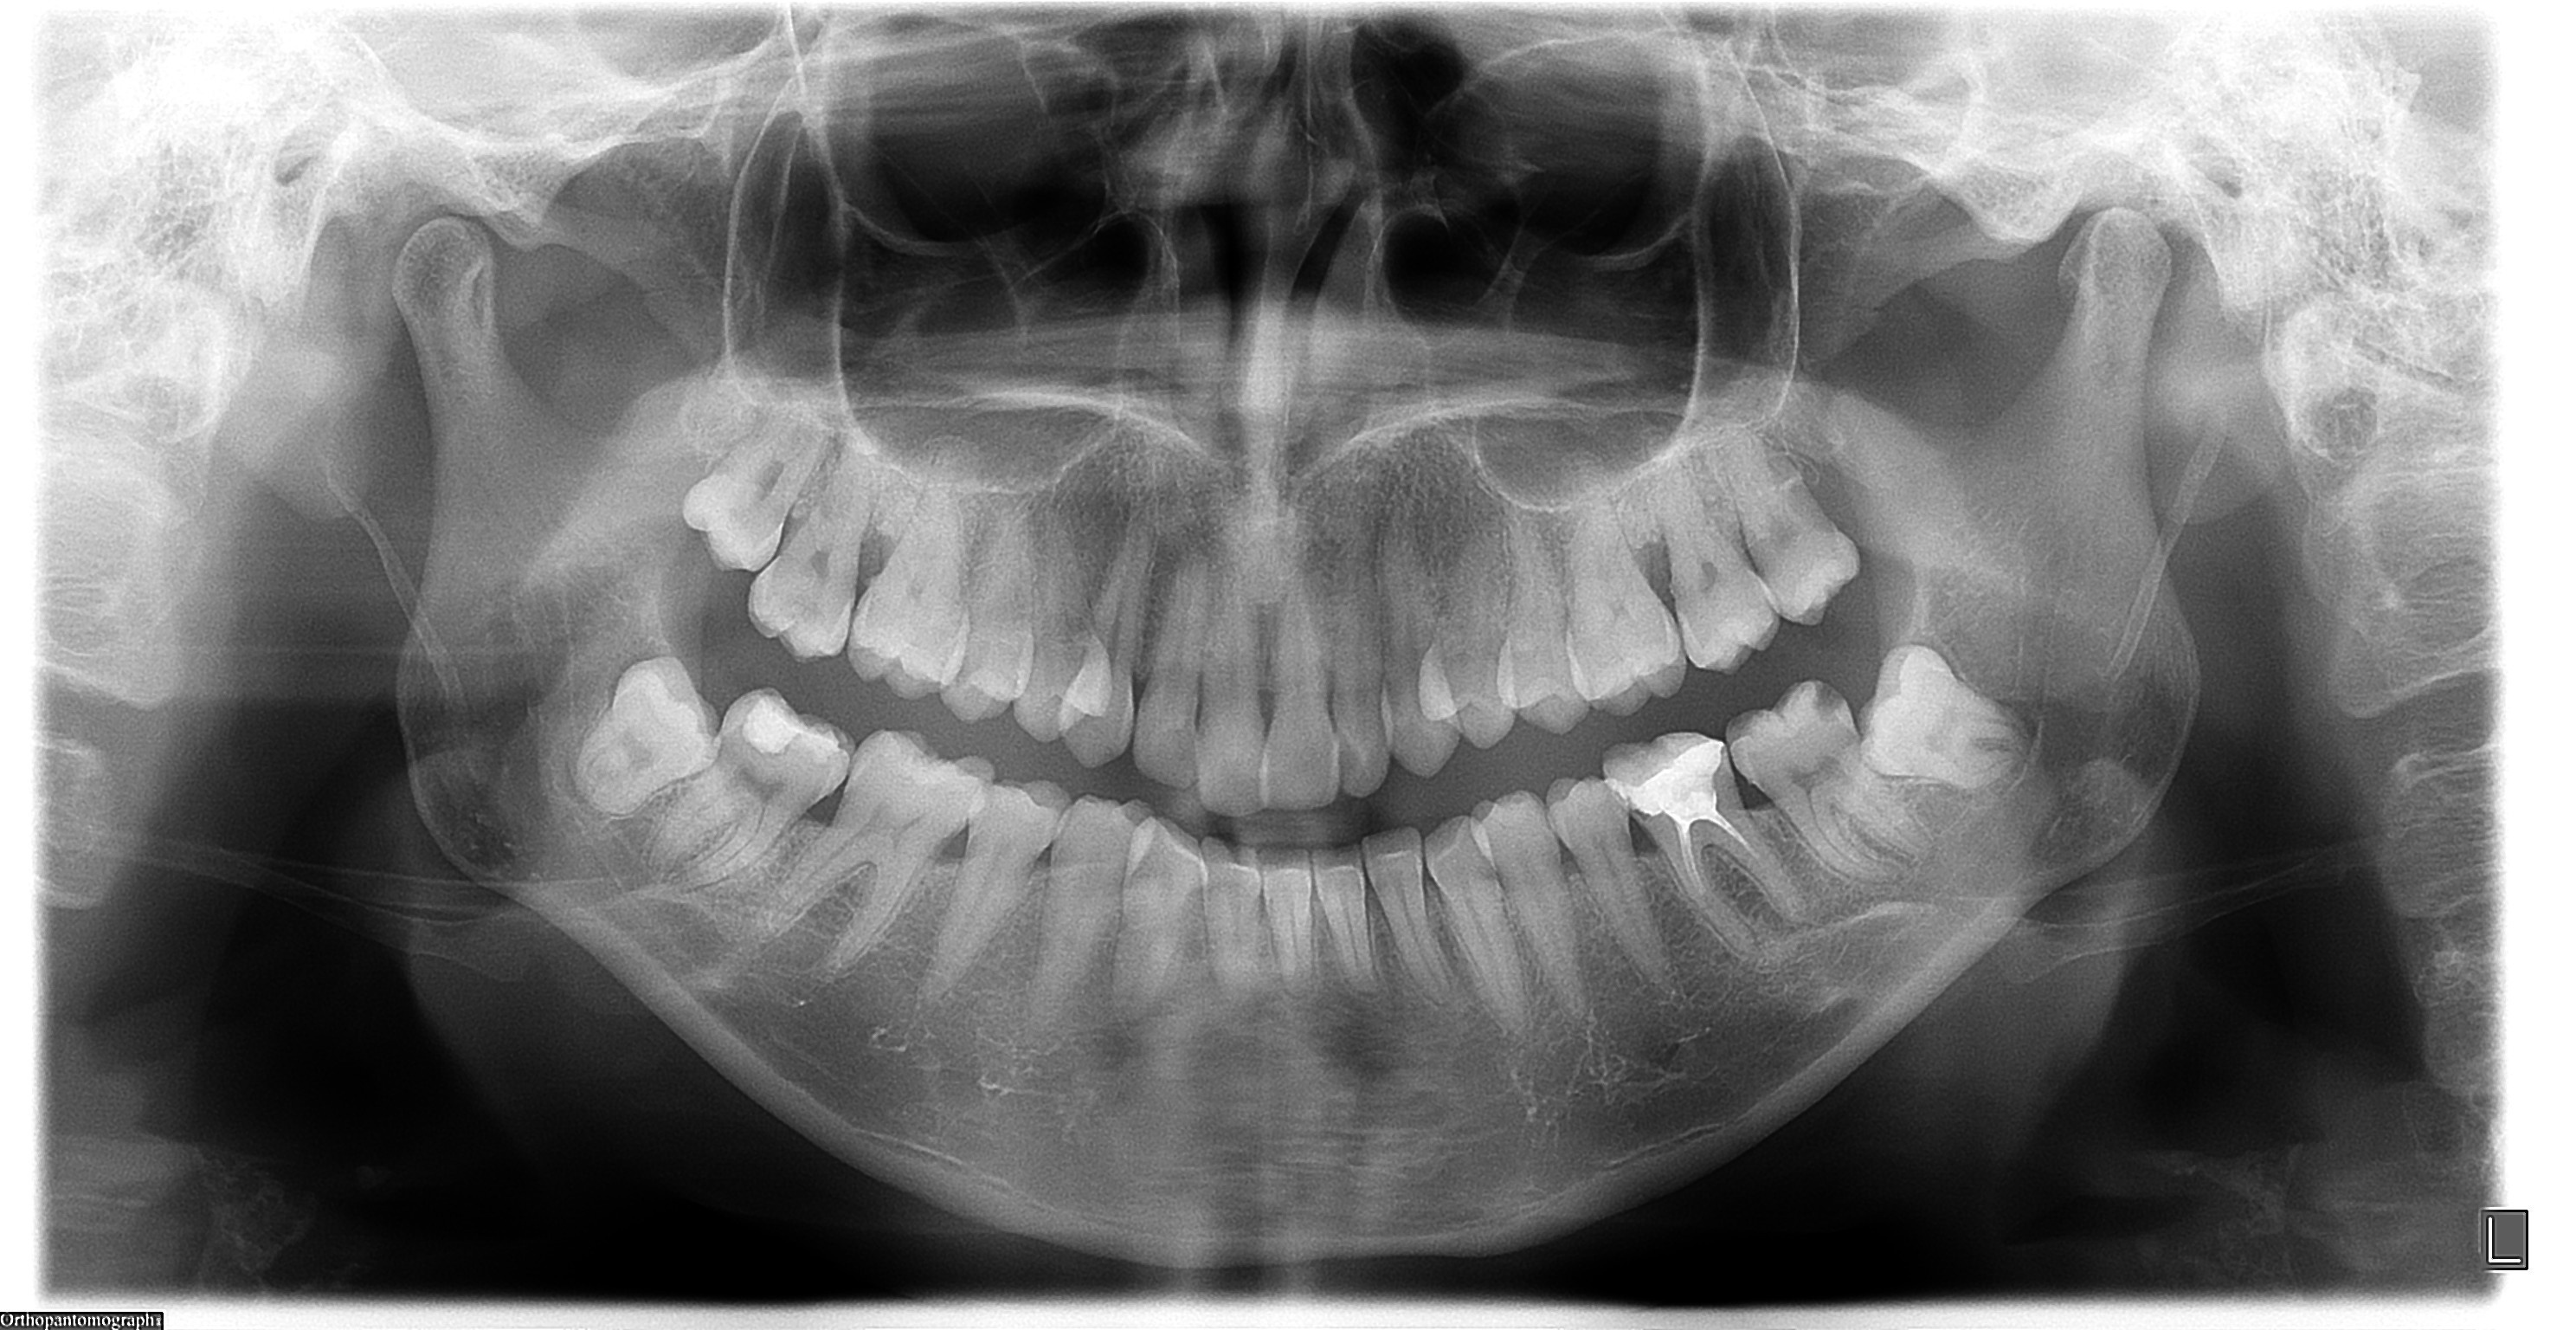CAR: (1813, 680, 1845, 719)
END: (1674, 809, 1764, 896)
IMT: (575, 657, 721, 816)
OBT: (1611, 740, 1723, 821)
